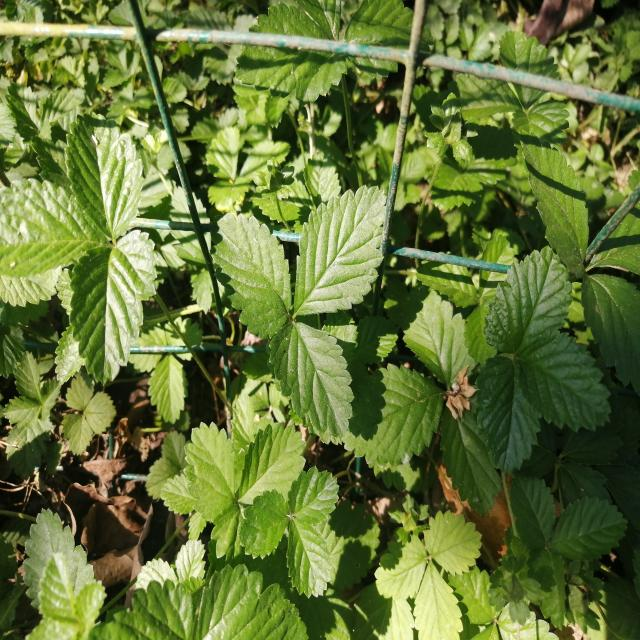Mock_strawberry: (376, 238, 592, 500), (209, 189, 405, 456), (0, 115, 180, 377), (164, 408, 348, 588)
